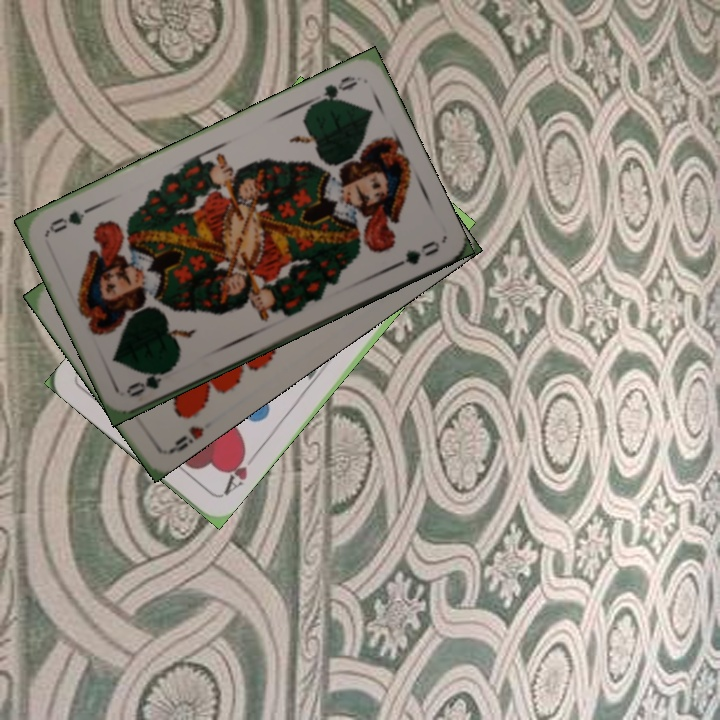GO: (123, 361, 177, 400), (306, 71, 360, 108)
H9: (164, 421, 207, 457)
HA: (216, 444, 260, 499)
